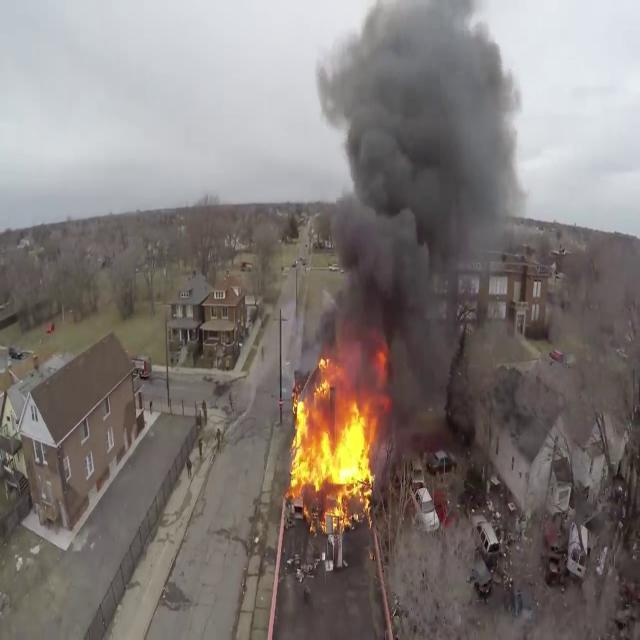Fire: (286, 352, 384, 518)
Smoke: (311, 0, 528, 375)
